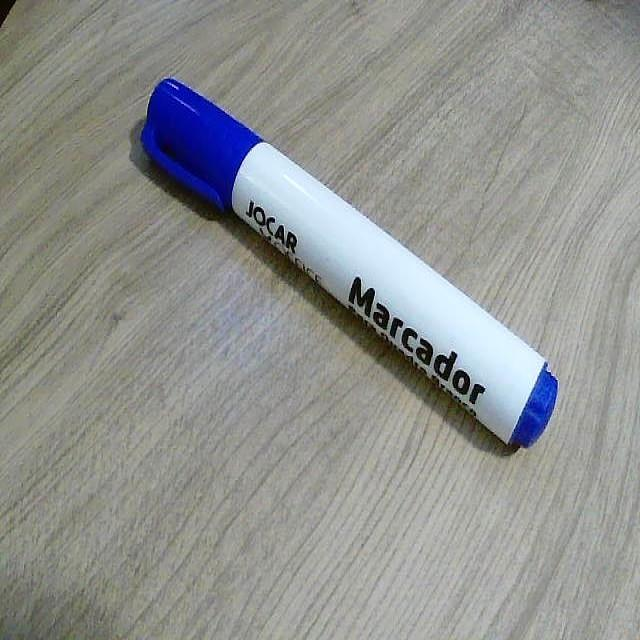caneta: (128, 55, 570, 475)
